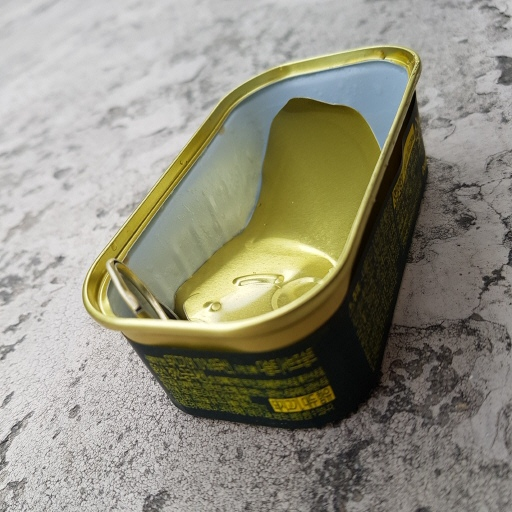Metal_2: (83, 42, 431, 426)
